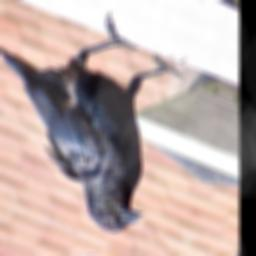Crow: (0, 0, 193, 245)
